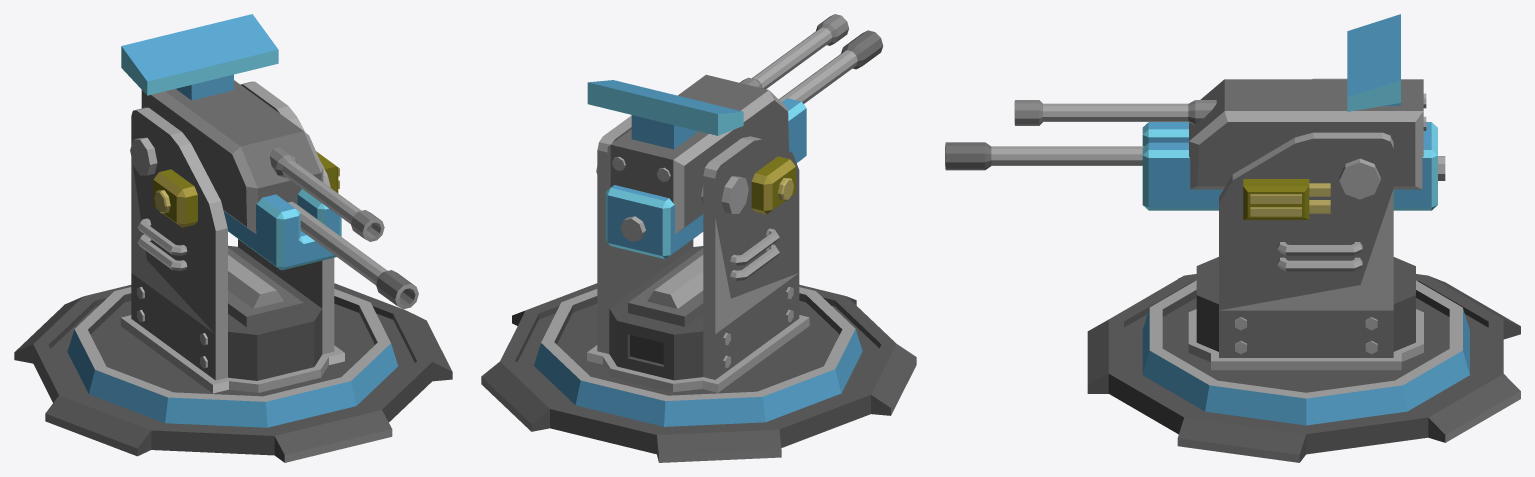
The model's file is tower_machinegun_blue_2.fbx.
The picture shows the model from 3 angles, left to right: view 1: azimuth 30°, elevation 25°; view 2: azimuth 150°, elevation 25°; view 3: azimuth 270°, elevation 25°; orthographic projection. The views are drawn at different scales.
Parts seen in each view (by area): view 1: top_machinegun_blue_2, tower_machinegun_blue_2; view 2: top_machinegun_blue_2, tower_machinegun_blue_2; view 3: top_machinegun_blue_2, tower_machinegun_blue_2.
Boxes of the visible parts, x1,y1,x2,y2 form: top_machinegun_blue_2: (67, 14, 418, 427); tower_machinegun_blue_2: (14, 283, 452, 462); top_machinegun_blue_2: (534, 14, 883, 426); tower_machinegun_blue_2: (481, 283, 916, 462); top_machinegun_blue_2: (945, 14, 1469, 425); tower_machinegun_blue_2: (1087, 274, 1520, 462).
Bounding box in the file's own units: 172 × 133 × 217.
